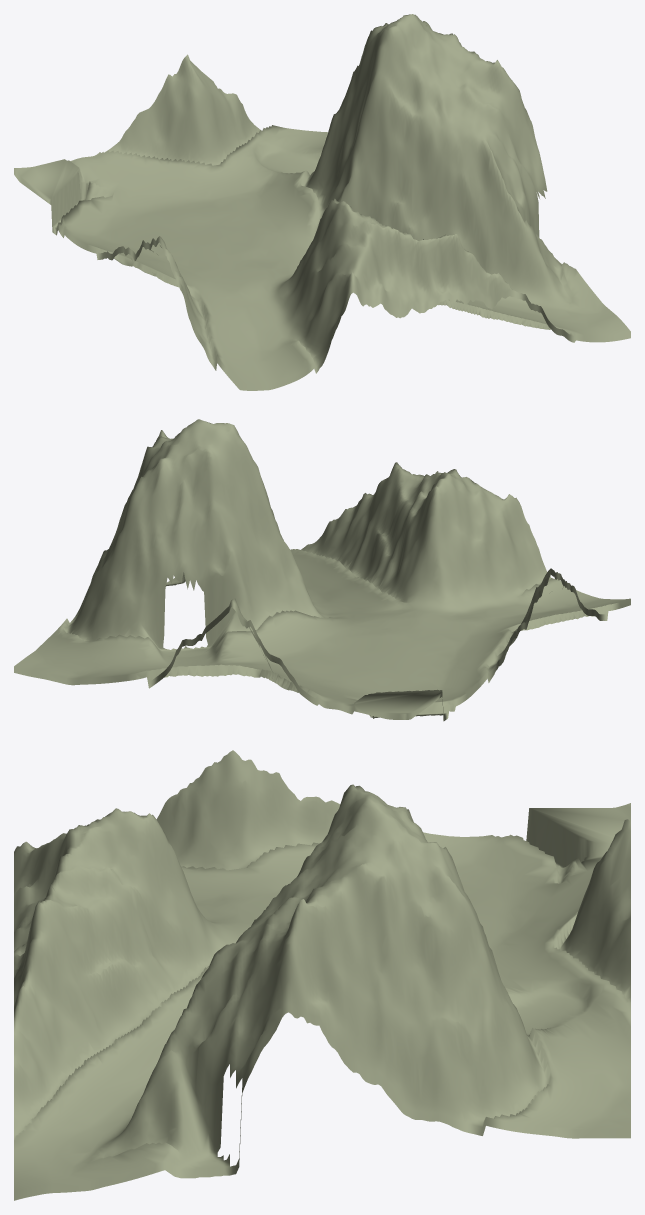
File: terrain_r2_c1_lod0.glb
3 views of the same model, one above another, from view 1: azimuth 30°, elevation 25°; view 2: azimuth 150°, elevation 25°; view 3: azimuth 270°, elevation 25° (orthographic). The views are drawn at different scales.
Parts seen in each view (by area): view 1: terrain_r2_c1; view 2: terrain_r2_c1; view 3: terrain_r2_c1.
Part boxes in pixels (x1,y1,x2,y2): terrain_r2_c1: (14, 14, 630, 390); terrain_r2_c1: (14, 419, 630, 721); terrain_r2_c1: (14, 750, 630, 1200).
Bounding box in the file's own units: 50 × 30.64 × 50.
